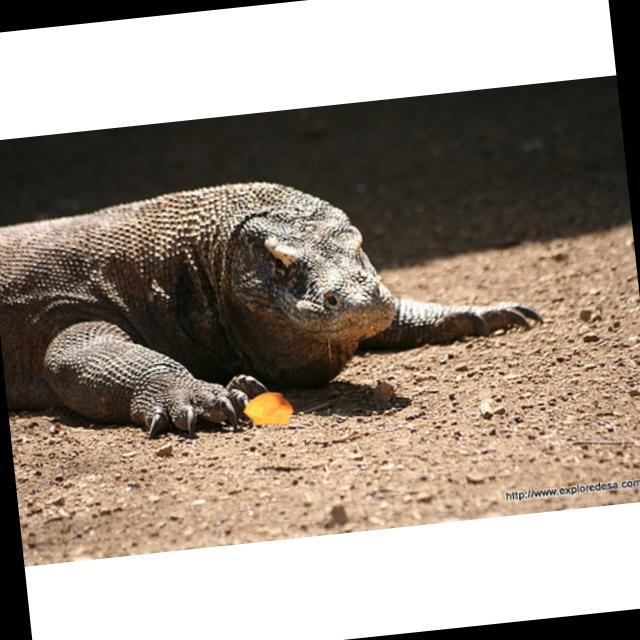KomodoDragon: (0, 146, 552, 457)
